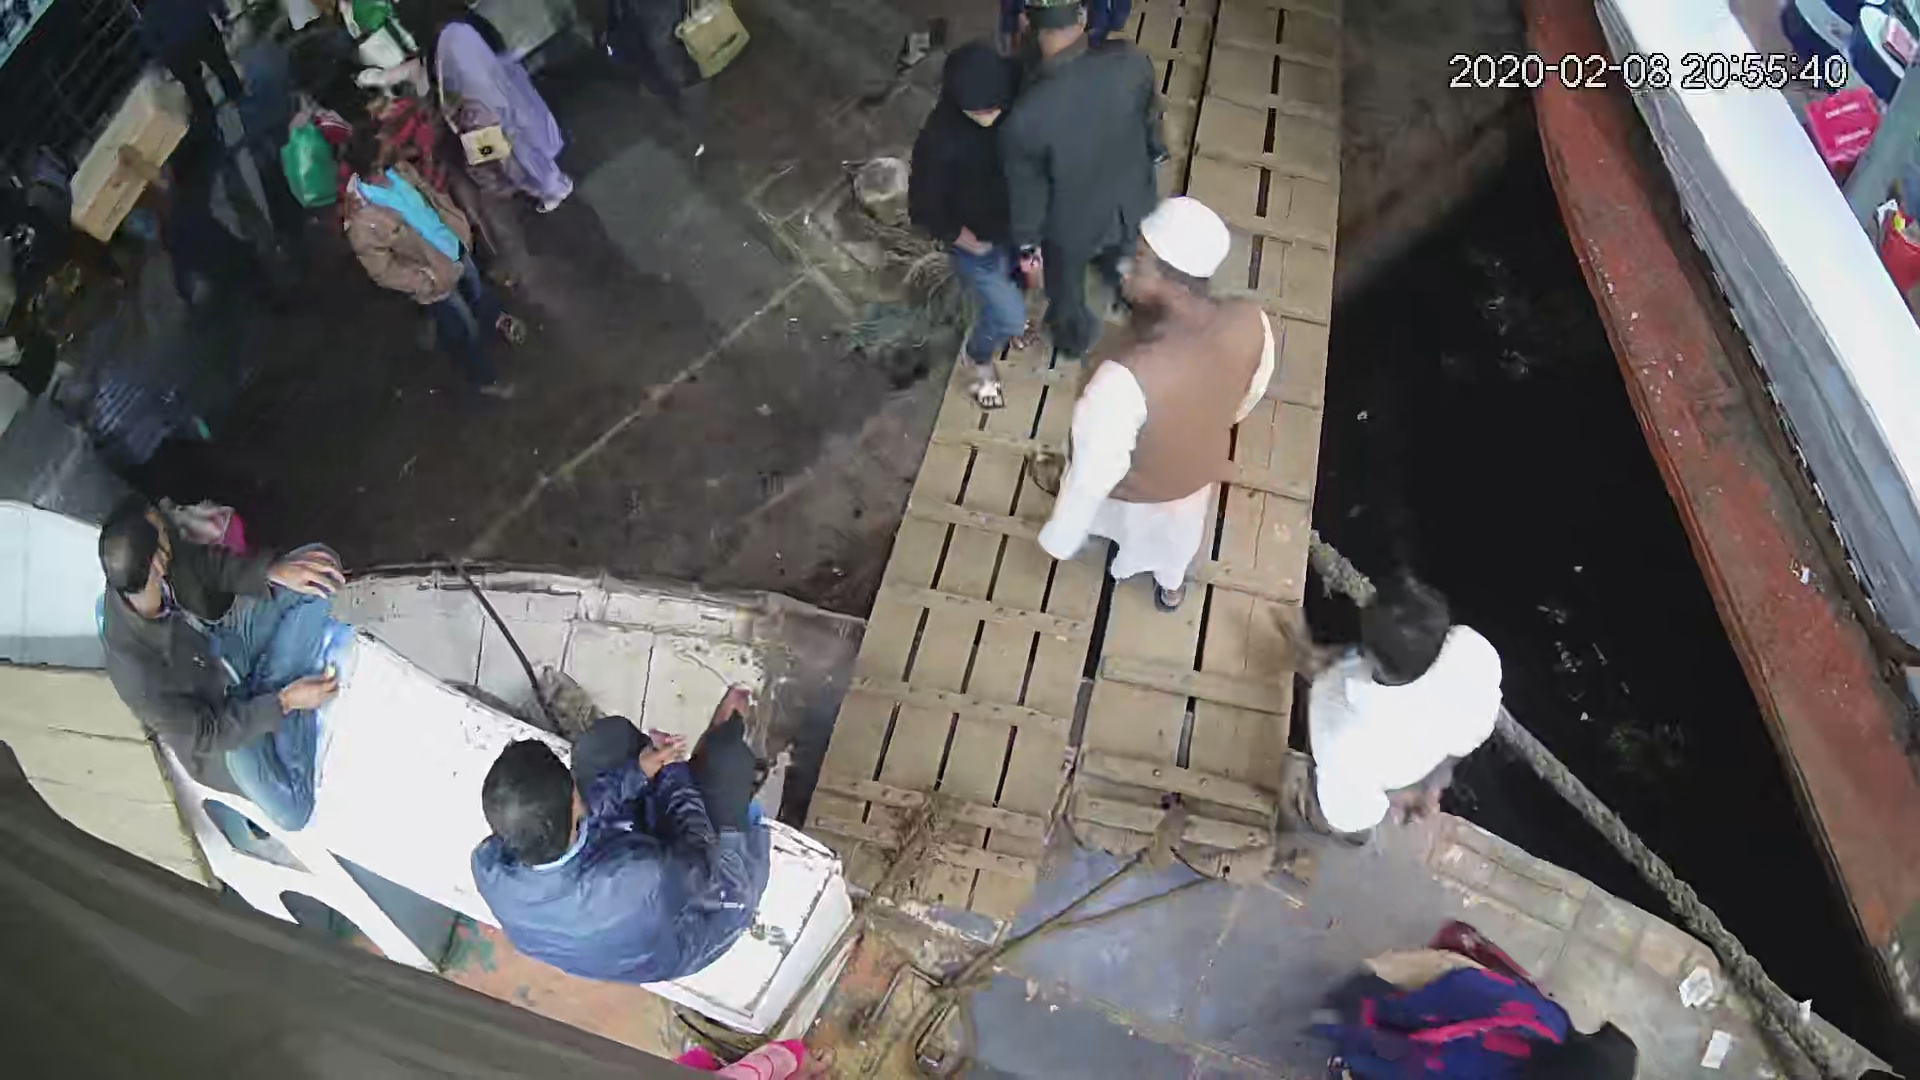person: (1015, 191, 1279, 616), (482, 678, 778, 990), (89, 484, 336, 827), (1283, 574, 1512, 853), (1318, 907, 1642, 1079), (876, 42, 1034, 380), (349, 132, 528, 395), (1000, 1, 1178, 208), (398, 8, 583, 205)
